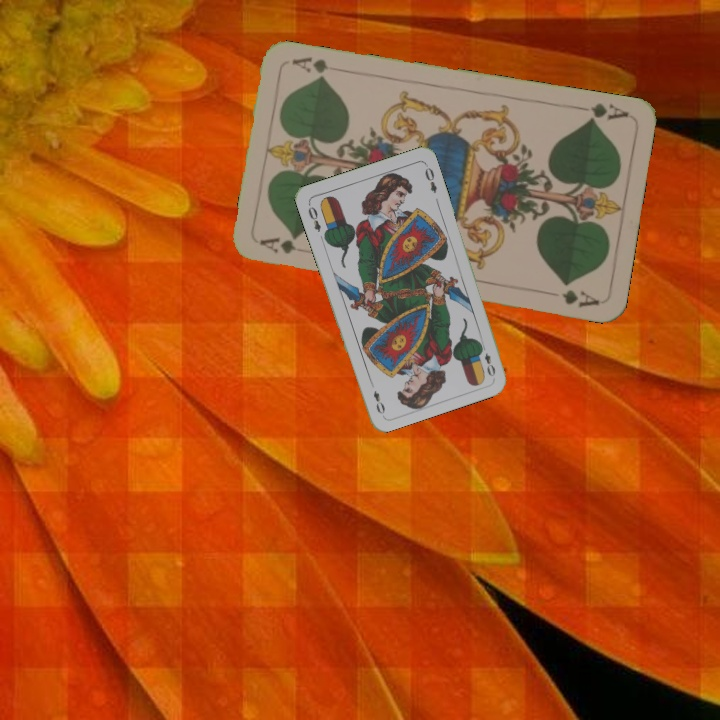EO: (477, 340, 498, 379), (304, 199, 323, 234)
GA: (572, 98, 631, 125), (256, 234, 315, 257)
